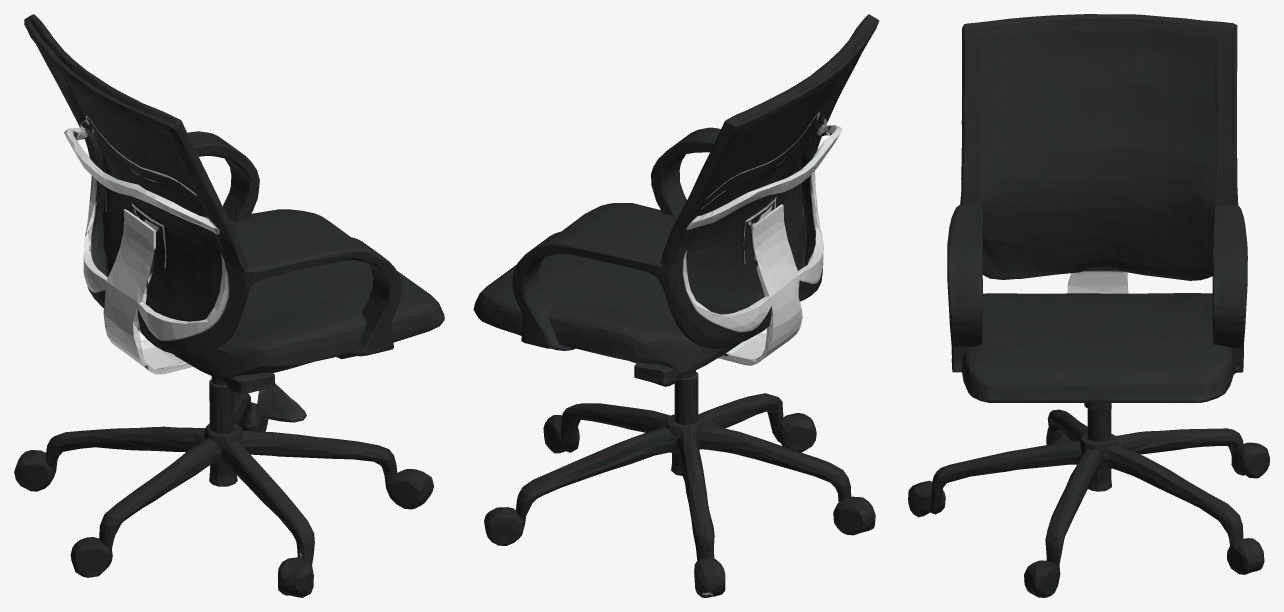
Rendered from computer_chair_43.obj.
The picture shows the model from 3 angles, left to right: view 1: azimuth 30°, elevation 25°; view 2: azimuth 150°, elevation 25°; view 3: azimuth 270°, elevation 25°; orthographic projection. The views are drawn at different scales.
Size of the model in its own units: 0.7567 by 1 by 0.7334.
Materials: 1 (1 with a texture image).
